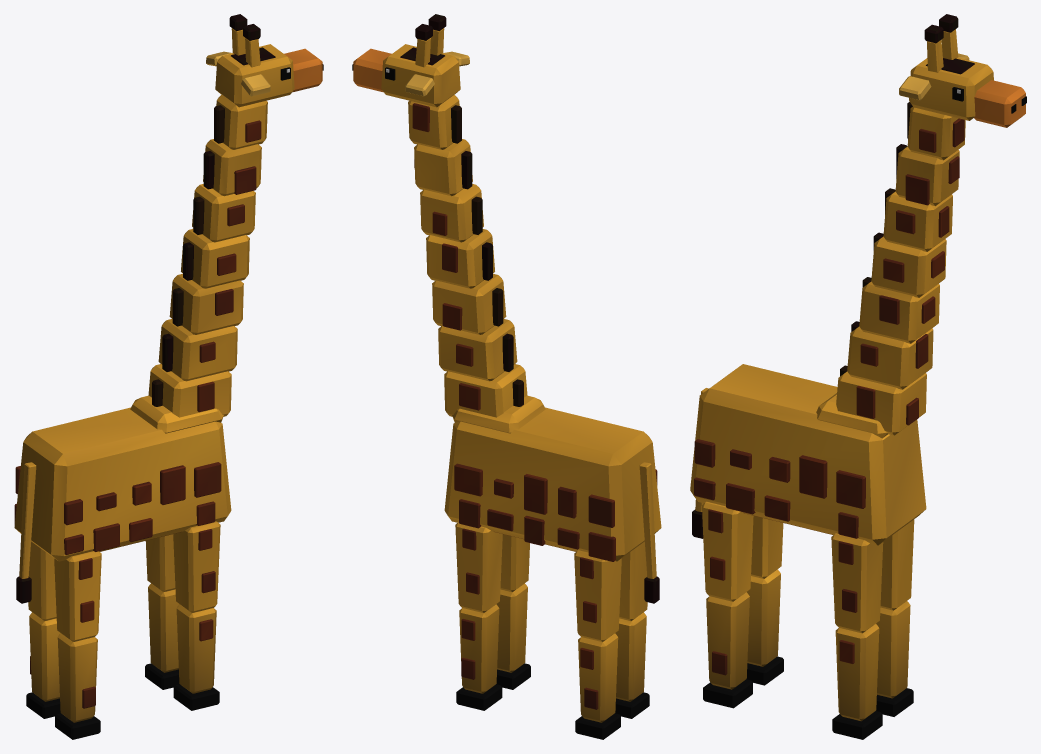
The model's file is giraffe.glb.
3 views of the same model, side by side, from view 1: azimuth 30°, elevation 25°; view 2: azimuth 150°, elevation 25°; view 3: azimuth 330°, elevation 25° (orthographic). The views are drawn at different scales.
Visible parts, largest first — view 1: giraffe; view 2: giraffe; view 3: giraffe.
Part boxes in pixels (x1,y1,x2,y2): giraffe: [14, 14, 323, 739]; giraffe: [352, 14, 661, 739]; giraffe: [690, 14, 1026, 739].
Size of the model in its own units: 3.62 by 7.58 by 1.03.
